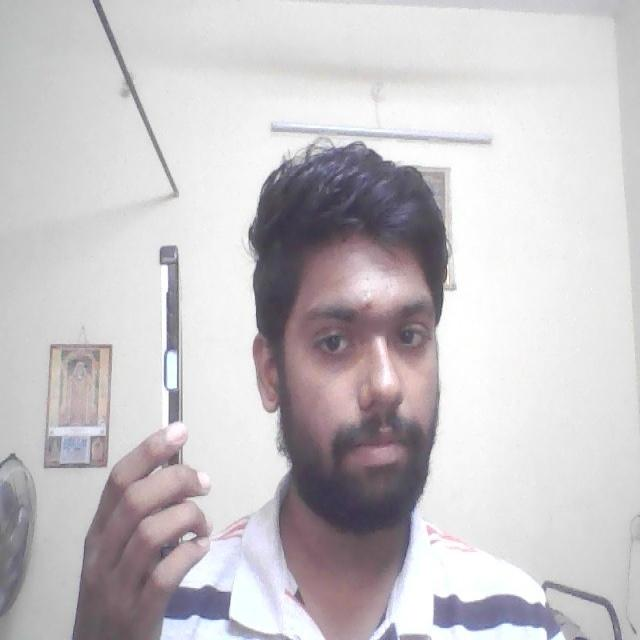Mobile: (151, 242, 188, 417)
